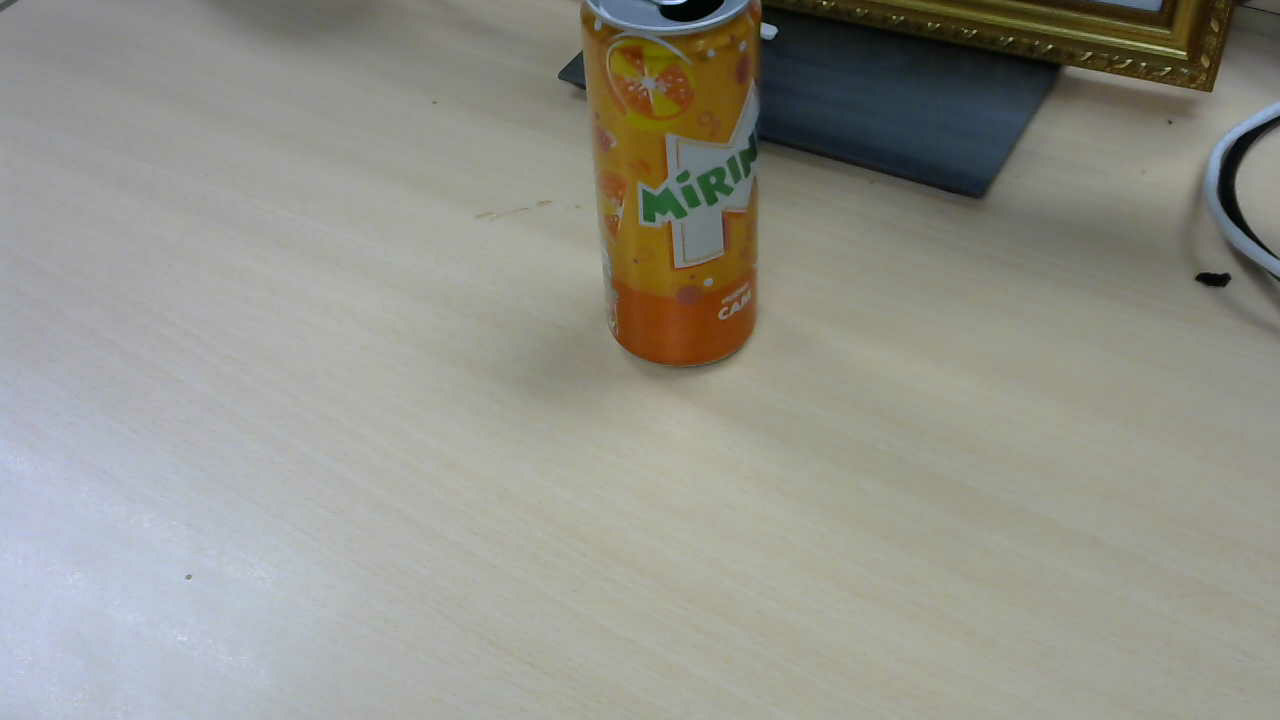Mirinda: (586, 8, 769, 375)
